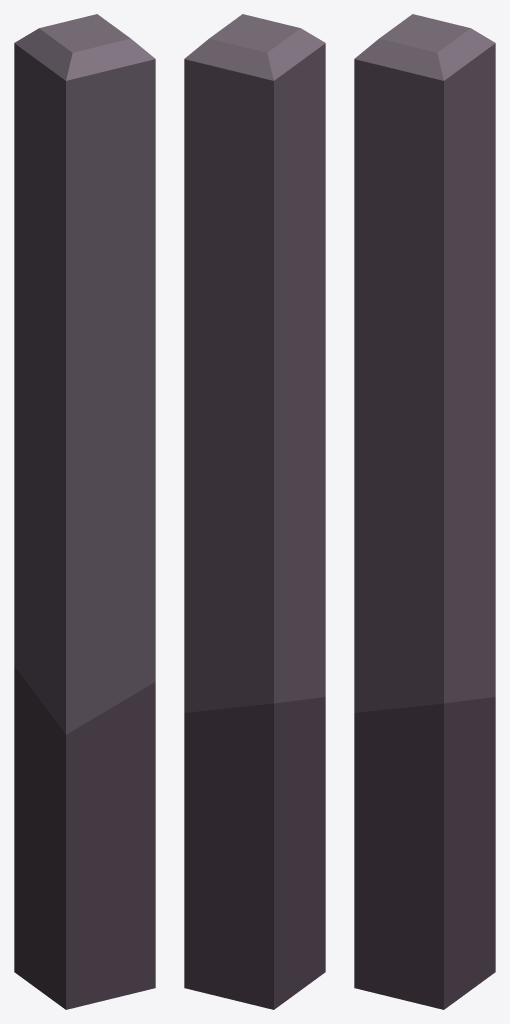
Rendered from SM_Prop_Fence_Fancy_Pole_02.fbx.
3 renders of one model, left to right at view 1: azimuth 30°, elevation 25°; view 2: azimuth 150°, elevation 25°; view 3: azimuth 330°, elevation 25°, orthographic.
Parts seen in each view (by area): view 1: SM_Prop_Fence_Fancy_Pole_02; view 2: SM_Prop_Fence_Fancy_Pole_02; view 3: SM_Prop_Fence_Fancy_Pole_02.
Part boxes in pixels (x1,y1,x2,y2): SM_Prop_Fence_Fancy_Pole_02: [14, 14, 155, 1009]; SM_Prop_Fence_Fancy_Pole_02: [184, 14, 325, 1009]; SM_Prop_Fence_Fancy_Pole_02: [354, 14, 495, 1009].
Bounding box in the file's own units: 0.1683 × 1.7 × 0.1683.
Materials: 1 (1 with a texture image).
